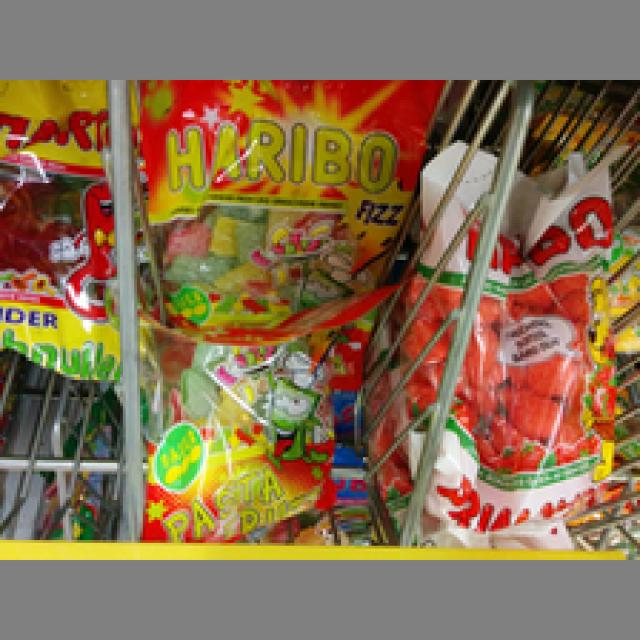groceries: (137, 74, 440, 346), (409, 140, 614, 534)
